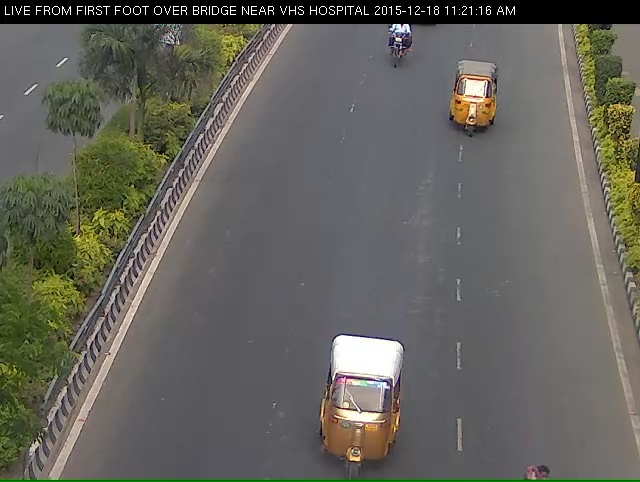Auto: (306, 354, 405, 478), (444, 61, 505, 150)
Person: (385, 25, 410, 71)
